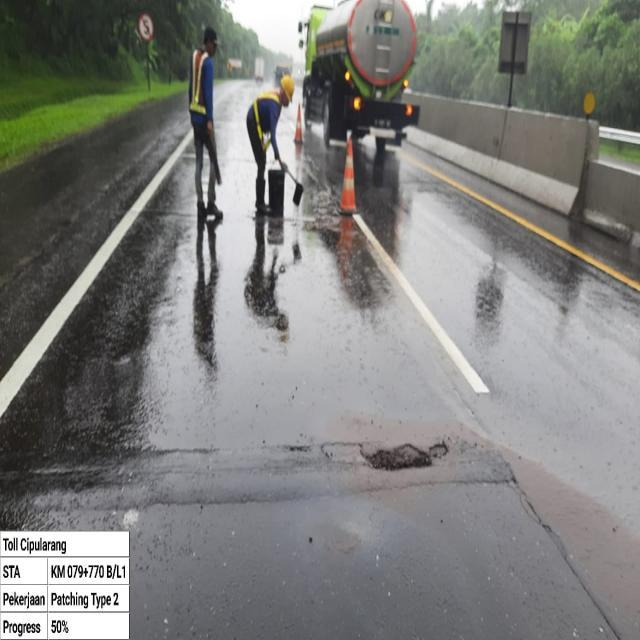Buraco: (316, 438, 452, 475)
